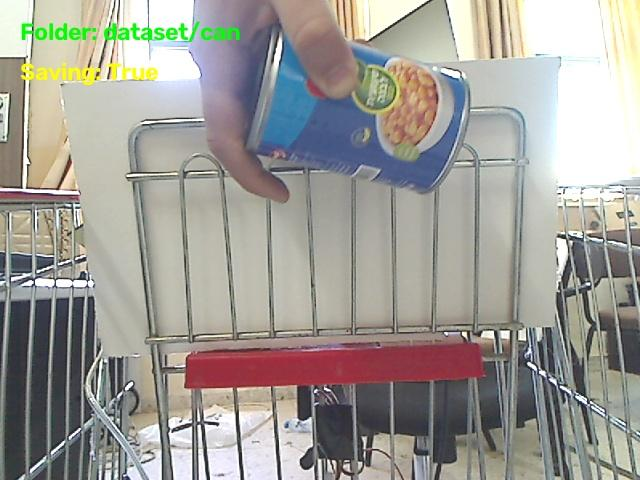can: (247, 27, 469, 192)
